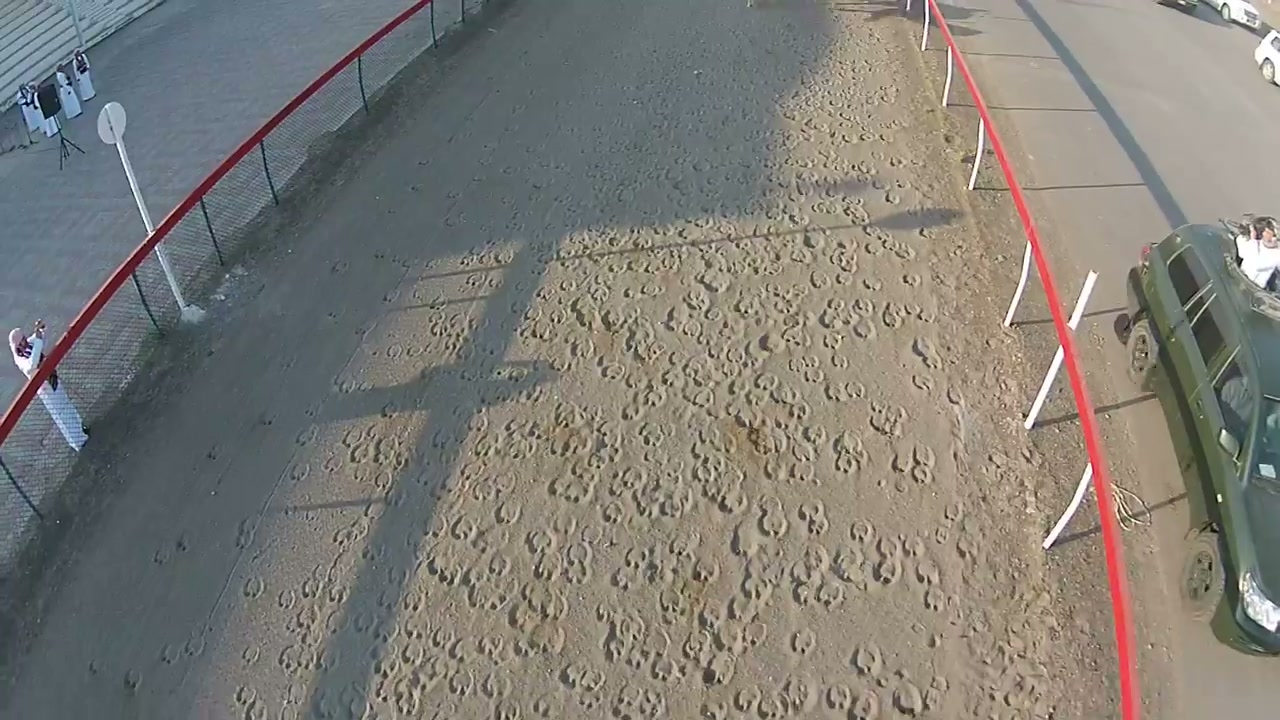animal_foot_print: (223, 18, 1051, 719), (892, 442, 935, 484), (869, 401, 906, 437), (848, 688, 879, 719)
